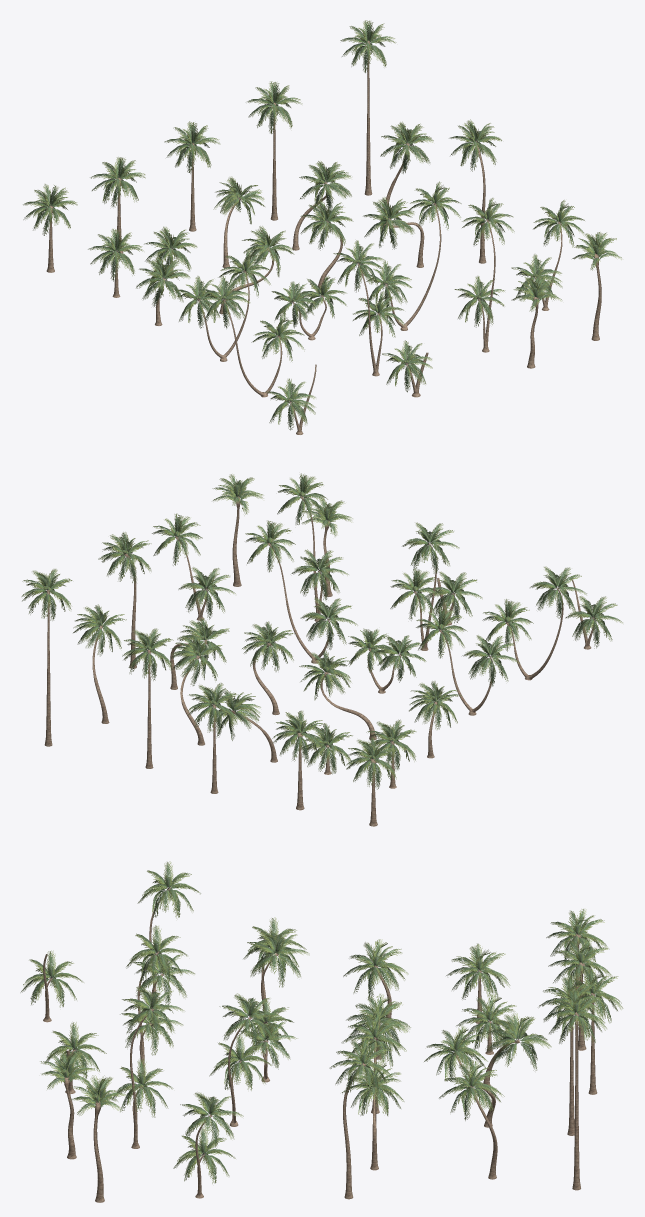
File: palm-tree-pack.glb
3 views of the same model, one above another, from view 1: azimuth 30°, elevation 25°; view 2: azimuth 150°, elevation 25°; view 3: azimuth 270°, elevation 25° (orthographic). The views are drawn at different scales.
Visible parts, largest first — view 1: M_Palm_P2_19, M_Palm_P2_20, M_Palm_P2_21, M_Palm_P2_18, M_Palm_P2_16, M_Palm_P2_22, M_Palm_P2_17, M_Palm_P2_5, M_Palm_P2_4, M_Palm_P2_15, M_Palm_P2_9, M_Palm_P2_3 (+14 smaller); view 2: M_Palm_P2_18, M_Palm_P2_19, M_Palm_P2_16, M_Palm_P2_20, M_Palm_P2_21, M_Palm_P2_22, M_Palm_P2_17, M_Palm_P2_5, M_Palm_P2_4, M_Palm_P2_15, M_Palm_P2_10, M_Palm_P2_2 (+14 smaller); view 3: M_Palm_P2_21, M_Palm_P2_18, M_Palm_P2_22, M_Palm_P2_20, M_Palm_P2_19, M_Palm_P2_5, M_Palm_P2_15, M_Palm_P2_16, M_Palm_P2_10, M_Palm_P2_8, M_Palm_P2_11, M_Palm_P2_6 (+14 smaller).
Boxes of the visible parts, x1,y1,x2,y2 form: M_Palm_P2_19: (199, 275, 304, 397); M_Palm_P2_20: (333, 240, 404, 376); M_Palm_P2_21: (454, 198, 514, 352); M_Palm_P2_18: (363, 181, 461, 330); M_Palm_P2_16: (173, 249, 270, 361); M_Palm_P2_22: (511, 200, 585, 310); M_Palm_P2_17: (271, 275, 346, 340); M_Palm_P2_5: (340, 20, 396, 195); M_Palm_P2_4: (247, 81, 302, 220); M_Palm_P2_15: (449, 119, 501, 263); M_Palm_P2_9: (292, 161, 351, 250); M_Palm_P2_3: (164, 121, 220, 231); M_Palm_P2_18: (245, 520, 357, 663); M_Palm_P2_19: (482, 566, 586, 680); M_Palm_P2_16: (416, 606, 519, 715); M_Palm_P2_20: (390, 522, 459, 650); M_Palm_P2_21: (277, 473, 348, 621); M_Palm_P2_22: (152, 513, 235, 620); M_Palm_P2_17: (348, 628, 426, 693); M_Palm_P2_5: (21, 569, 72, 746); M_Palm_P2_4: (122, 628, 173, 768); M_Palm_P2_15: (98, 532, 151, 668); M_Palm_P2_10: (73, 604, 126, 723); M_Palm_P2_2: (272, 710, 326, 810); M_Palm_P2_21: (112, 985, 184, 1148); M_Palm_P2_18: (209, 993, 282, 1126); M_Palm_P2_22: (173, 1092, 243, 1198); M_Palm_P2_20: (120, 925, 187, 1088); M_Palm_P2_19: (133, 861, 200, 1027); M_Palm_P2_5: (543, 985, 606, 1190); M_Palm_P2_15: (329, 1035, 393, 1199); M_Palm_P2_16: (243, 917, 309, 1023); M_Palm_P2_10: (439, 1059, 504, 1179); M_Palm_P2_8: (483, 1013, 551, 1085); M_Palm_P2_11: (343, 939, 408, 1024); M_Palm_P2_6: (446, 943, 510, 1023).
Bounding box in the file's own units: 110 × 43.54 × 123.
Materials: 4 (2 with a texture image).
